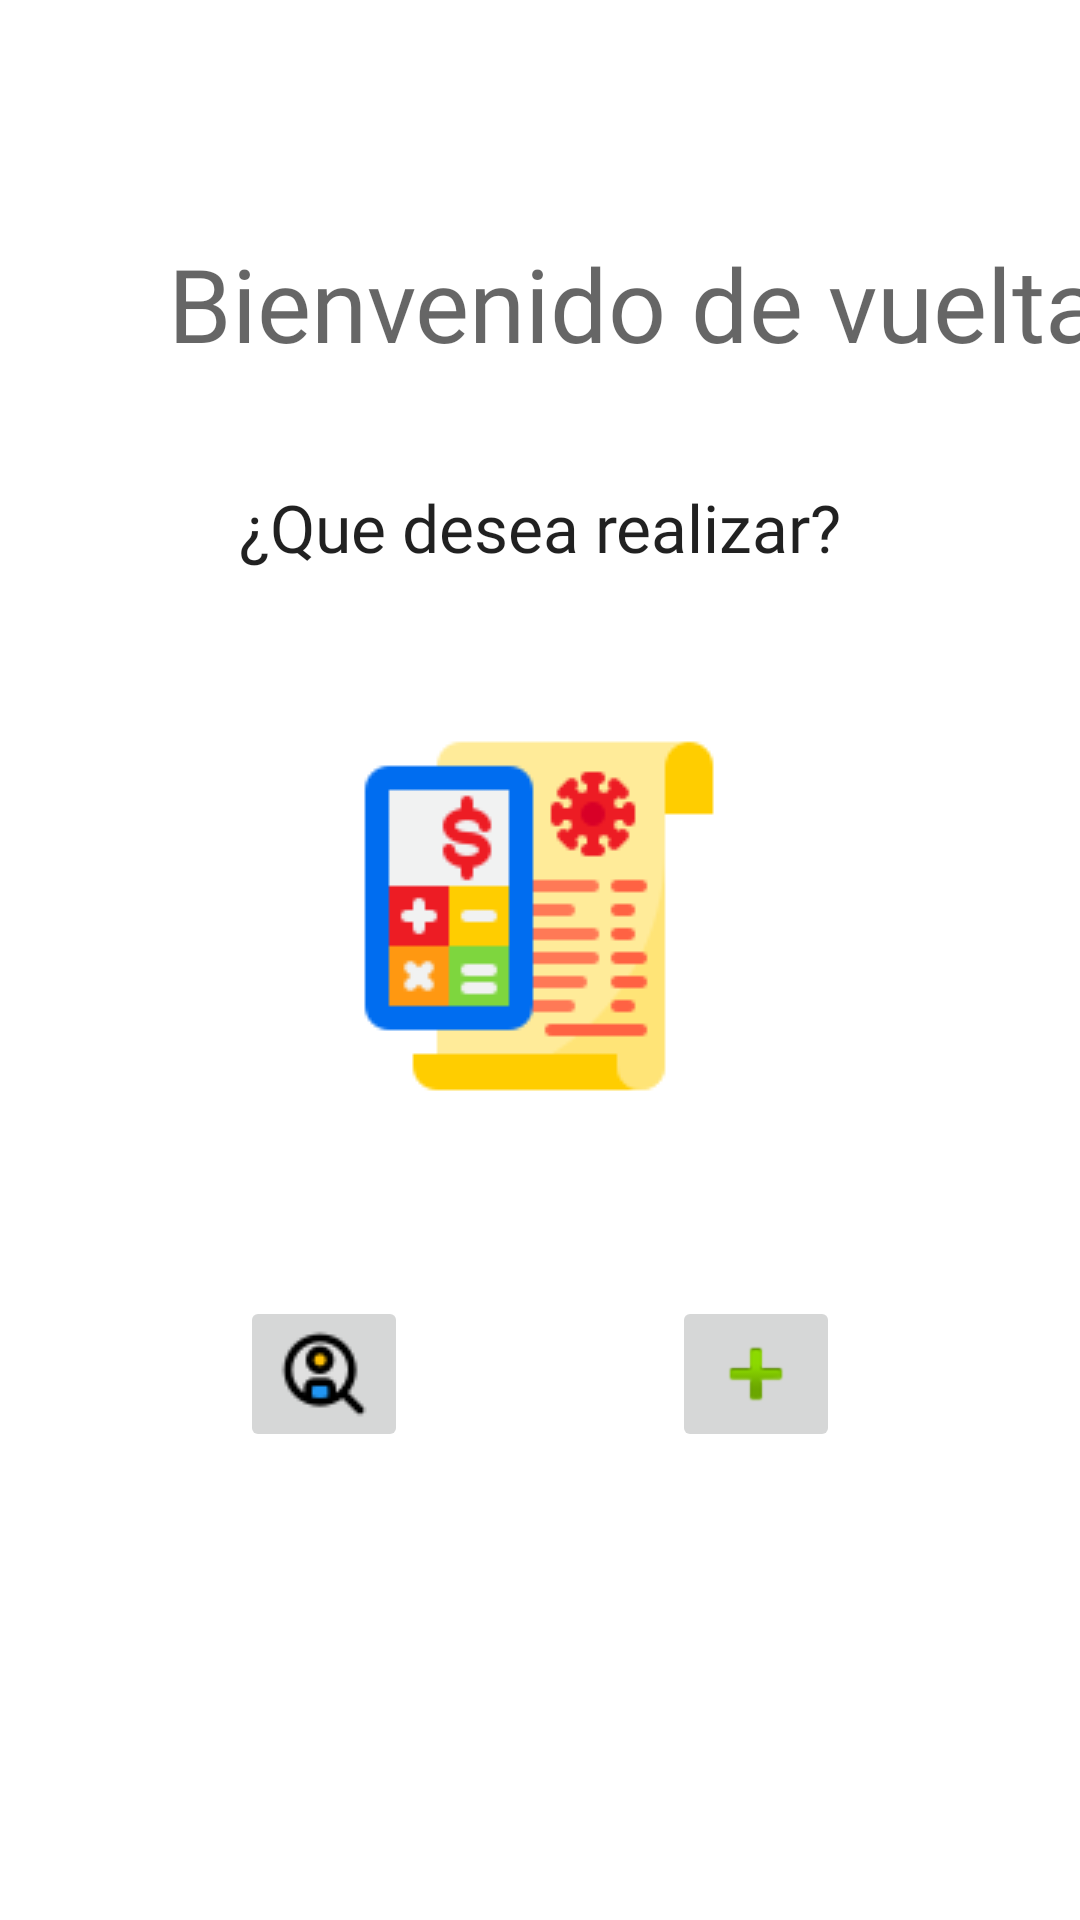

Icon bounding boxes for this 1080×1920 phone screenshot, format [x1,y1,x2,y2]:
add: [684,1314,828,1434]
report: [364,741,714,1091]
searchuser: [252,1314,396,1434]
